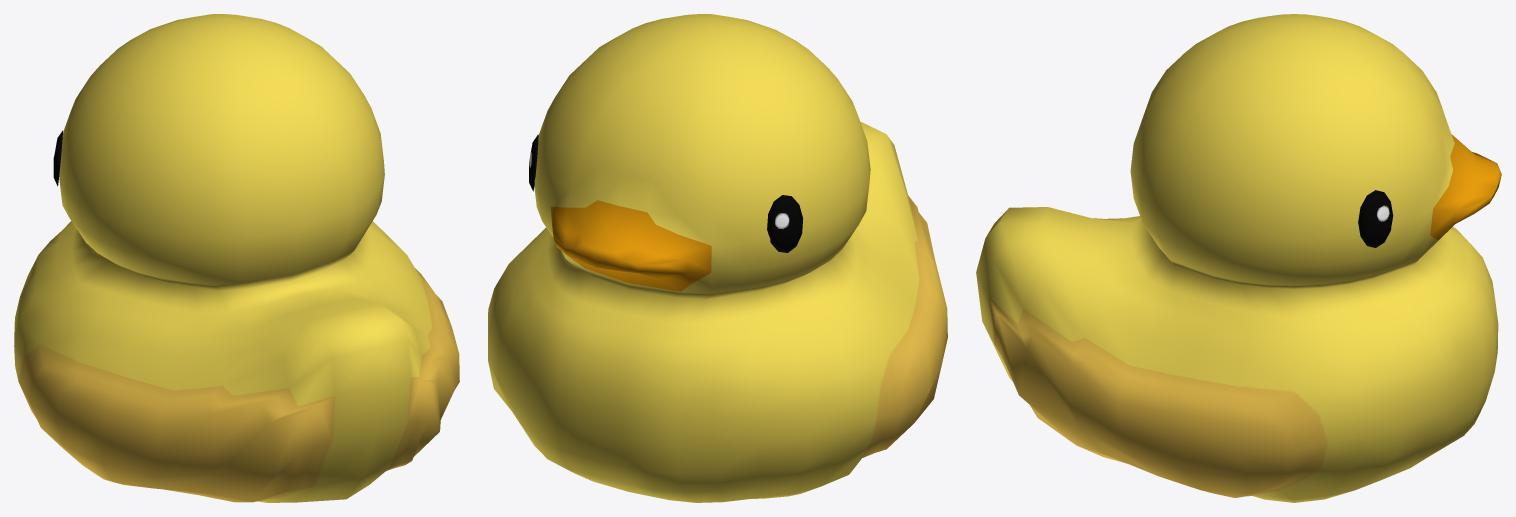
File: Vit.fbx
The picture shows the model from 3 angles, left to right: view 1: azimuth 30°, elevation 25°; view 2: azimuth 150°, elevation 25°; view 3: azimuth 270°, elevation 25°; orthographic projection. The views are drawn at different scales.
Visible parts, largest first — view 1: Vit; view 2: Vit; view 3: Vit.
Boxes of the visible parts, x1=… form: Vit: x1=14, y1=14, x2=459, y2=502; Vit: x1=488, y1=14, x2=947, y2=502; Vit: x1=976, y1=14, x2=1501, y2=502.
Size of the model in its own units: 0.5386 by 0.6307 by 0.5713.
Materials: 1 (1 with a texture image).
